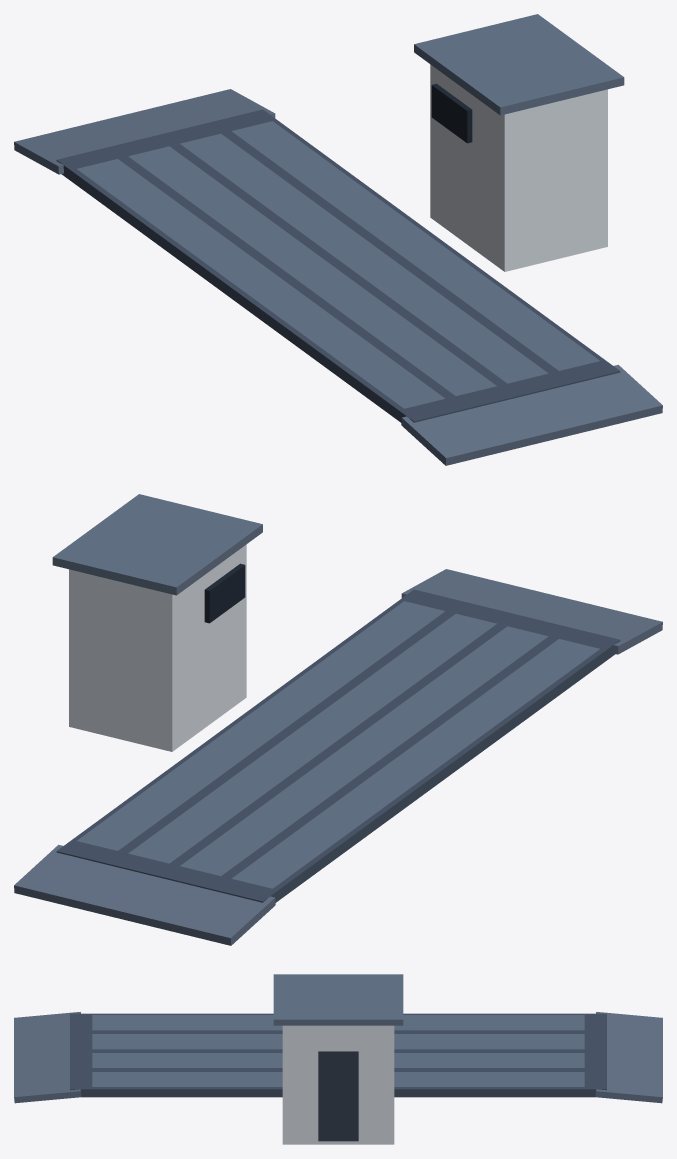
File: yard-weight-scale-body-authored-atlas.glb
3 views of the same model, one above another, from view 1: azimuth 30°, elevation 25°; view 2: azimuth 150°, elevation 25°; view 3: azimuth 270°, elevation 25° (orthographic). The views are drawn at different scales.
Parts seen in each view (by area): view 1: Authored surface.045; view 2: Authored surface.045; view 3: Authored surface.045.
Part boxes in pixels (x1,y1,x2,y2): Authored surface.045: (14,14,662,465); Authored surface.045: (14,494,662,945); Authored surface.045: (14,974,662,1144).
Size of the model in its own units: 6.8 by 3.27 by 14.51.
1 material, 1 textured.
